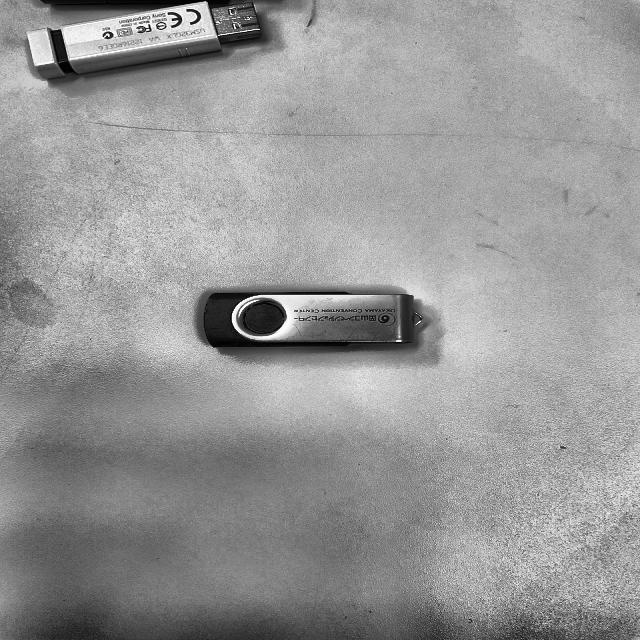Mug: (197, 290, 430, 352)
